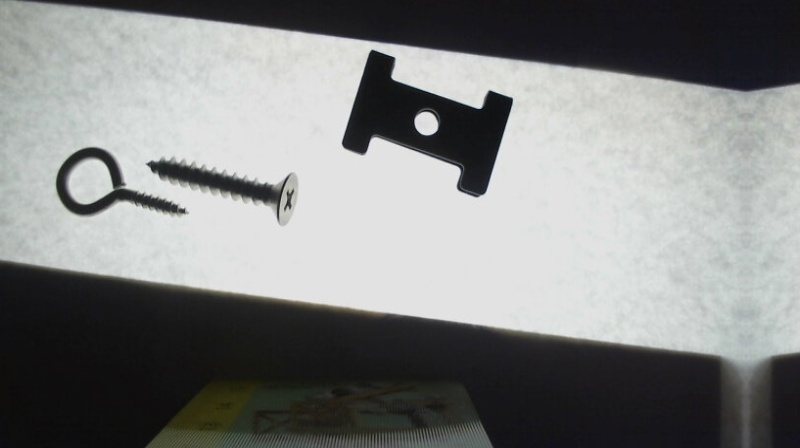O001: (52, 145, 190, 223)
O002: (336, 47, 516, 198)
S001: (145, 154, 302, 228)
